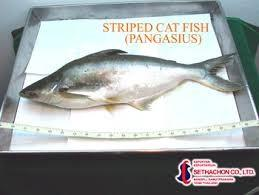Pangasius: (19, 48, 246, 114)
